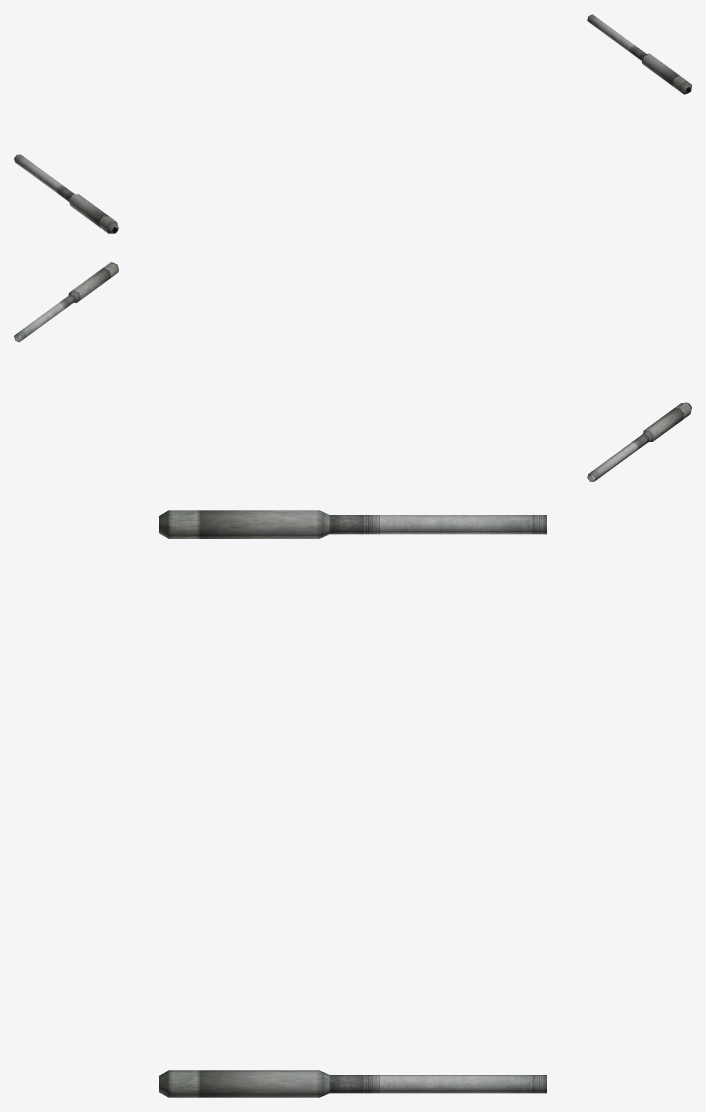
The model's file is hutt_fighter_light_weapon_s05_l1.fbx.
3 renders of one model, top to bottom at view 1: azimuth 30°, elevation 25°; view 2: azimuth 150°, elevation 25°; view 3: azimuth 270°, elevation 25°, orthographic. The views are drawn at different scales.
Parts seen in each view (by area): view 1: mesh_node; view 2: mesh_node; view 3: mesh_node.
Part boxes in pixels (left/top/right/bottom): mesh_node: left=14, top=14, right=691, bottom=233; mesh_node: left=14, top=262, right=691, bottom=481; mesh_node: left=159, top=510, right=546, bottom=1097.
Bounding box in the file's own units: 3.39 × 0.0705 × 0.9733.
Materials: 1 (1 with a texture image).
